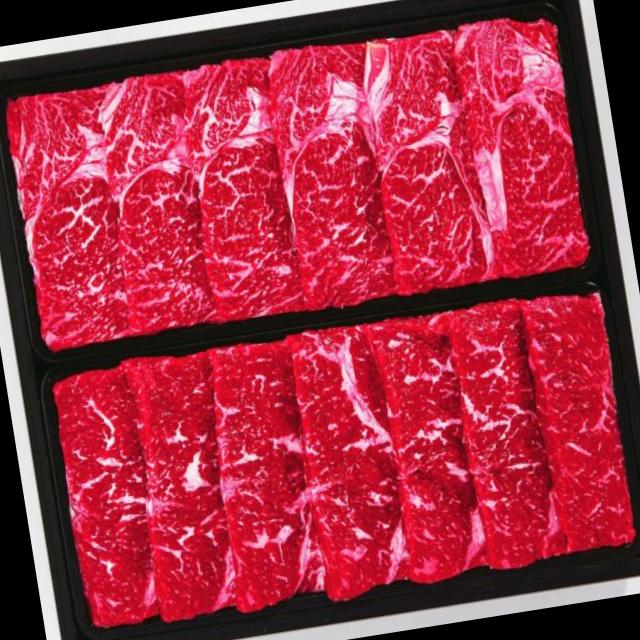beef: (45, 286, 640, 637), (0, 11, 587, 347), (231, 348, 375, 598), (190, 82, 310, 308)
